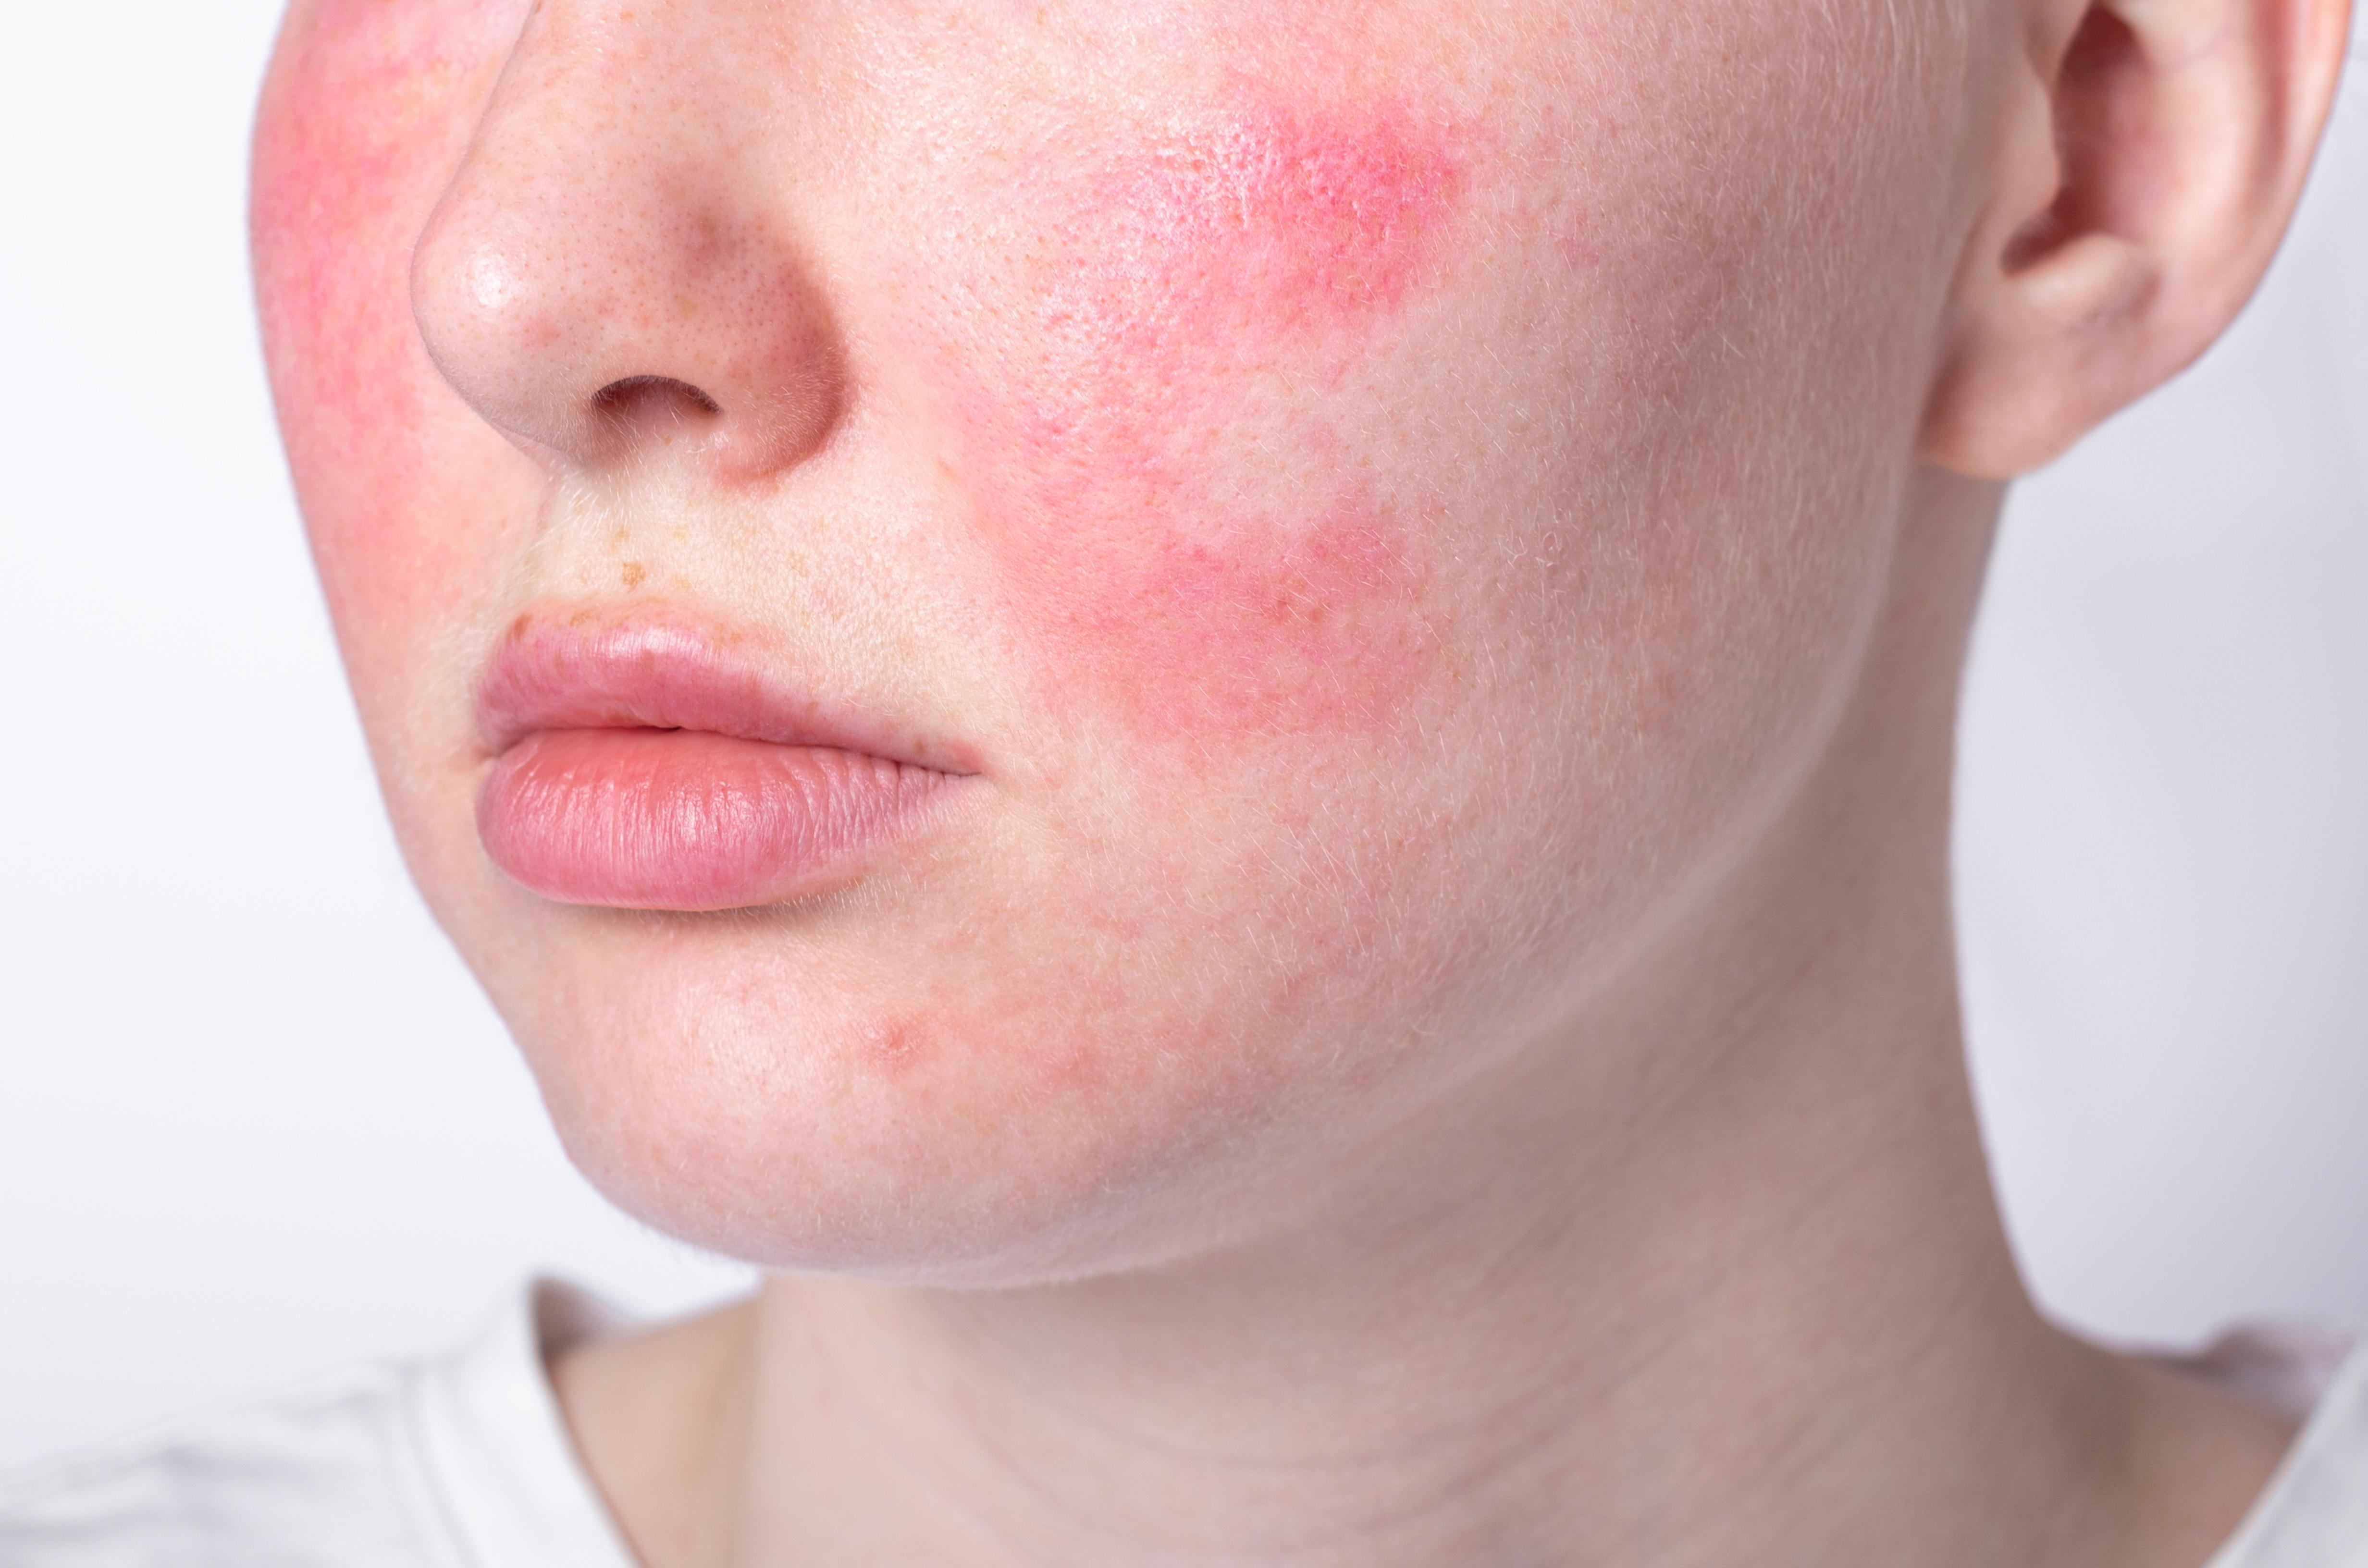Skin-Redness: (1006, 450, 1496, 759), (1029, 72, 1500, 385)
